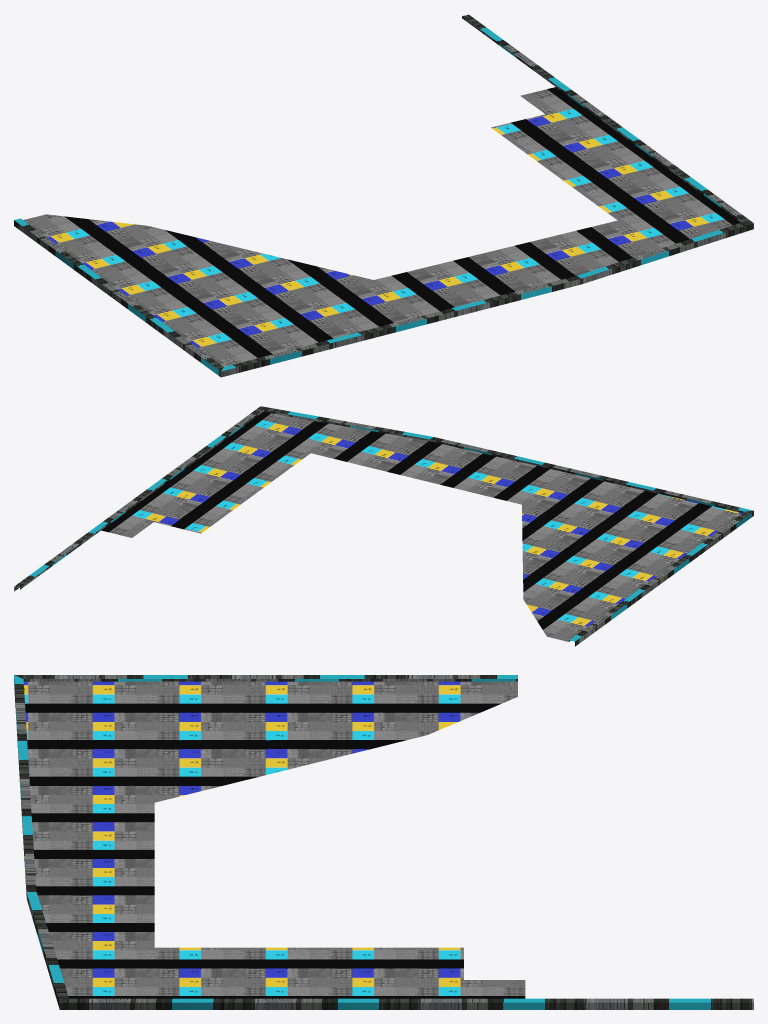
The model's file is downtown_sidewalk_4.fbx.
3 renders of one model, top to bottom at view 1: azimuth 30°, elevation 25°; view 2: azimuth 150°, elevation 25°; view 3: azimuth 270°, elevation 25°, orthographic. The views are drawn at different scales.
Parts seen in each view (by area): view 1: downtown_curb_4; view 2: downtown_curb_4; view 3: downtown_curb_4.
Boxes of the visible parts, bbox=[...] form: downtown_curb_4: bbox=[14, 14, 753, 377]; downtown_curb_4: bbox=[14, 406, 753, 646]; downtown_curb_4: bbox=[14, 675, 753, 1009].
Size of the model in its own units: 1462 by 15 by 1395.
